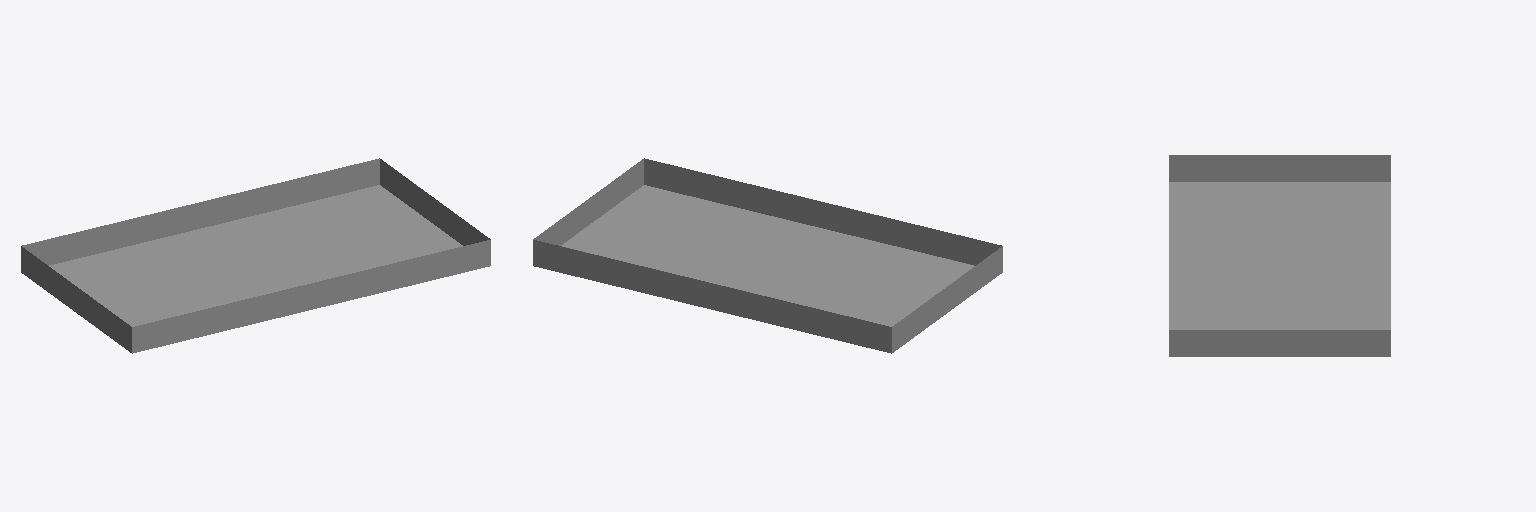
Rendered from ground.obj.
3 renders of one model, left to right at view 1: azimuth 30°, elevation 25°; view 2: azimuth 150°, elevation 25°; view 3: azimuth 270°, elevation 25°, orthographic.
Parts seen in each view (by area): view 1: RM场地总装.002_RM场地总装.013; view 2: RM场地总装.002_RM场地总装.013; view 3: RM场地总装.002_RM场地总装.013.
Boxes of the visible parts, box(x1,y1,x2,y2) form: RM场地总装.002_RM场地总装.013: box(21, 158, 490, 353); RM场地总装.002_RM场地总装.013: box(533, 158, 1002, 353); RM场地总装.002_RM场地总装.013: box(1169, 155, 1390, 356).
Bounding box in the file's own units: 280 × 19.85 × 150.